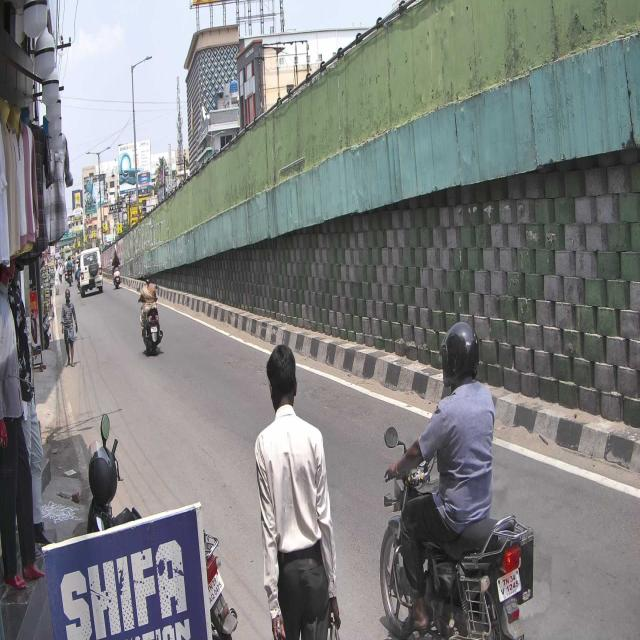single_rider: (380, 319, 531, 640)
